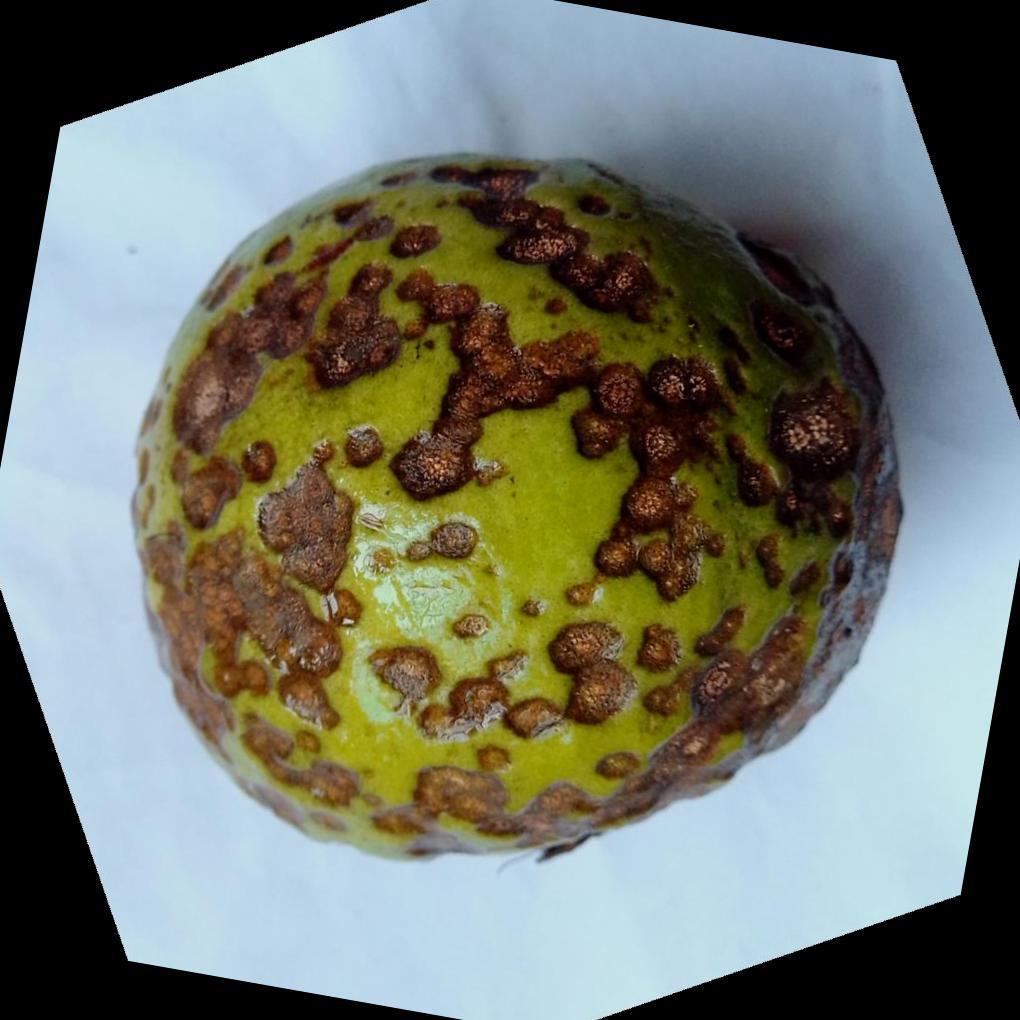FreshOrange: (127, 151, 903, 866)
